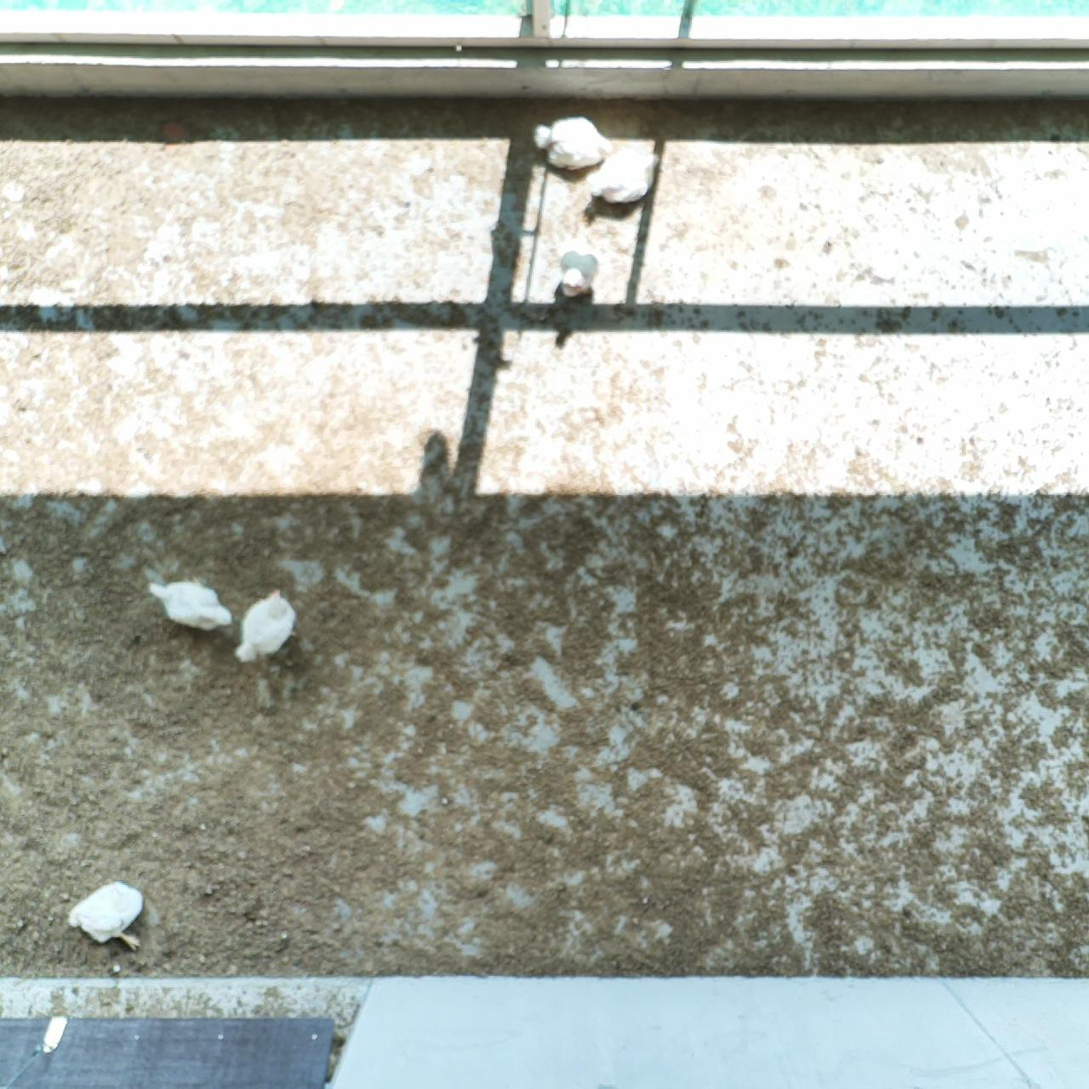chicken: (66, 881, 145, 951), (142, 578, 234, 634), (531, 114, 618, 172), (234, 589, 298, 666), (583, 147, 661, 206), (553, 232, 607, 298)
